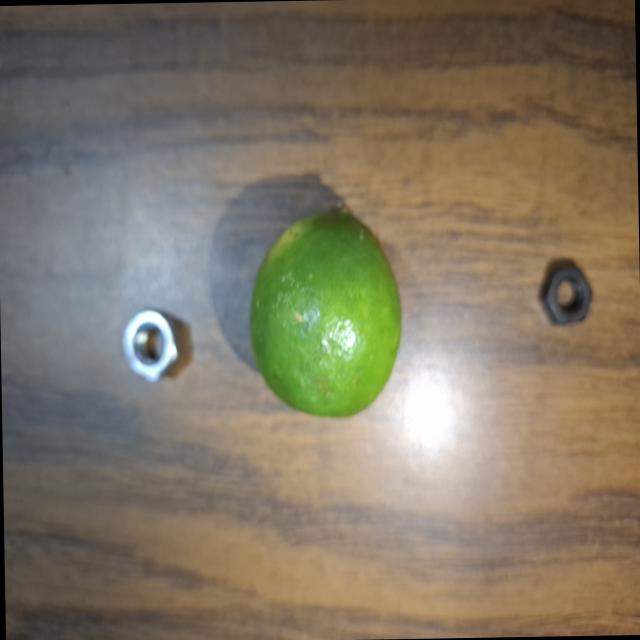limon: (241, 195, 408, 424)
milimetrico: (530, 245, 594, 338)
tuerca: (110, 302, 188, 396)
